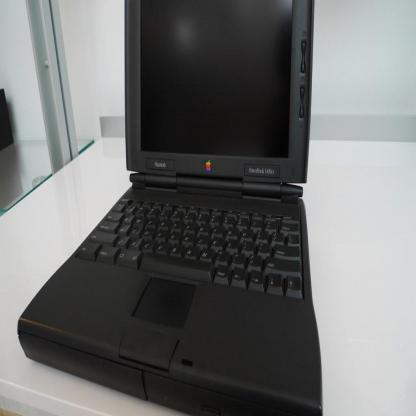board: (17, 0, 323, 415)
